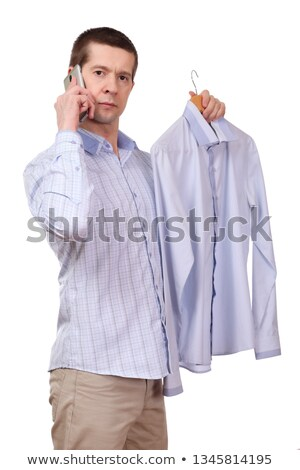phone: (58, 65, 96, 124)
talk: (50, 57, 138, 137)
